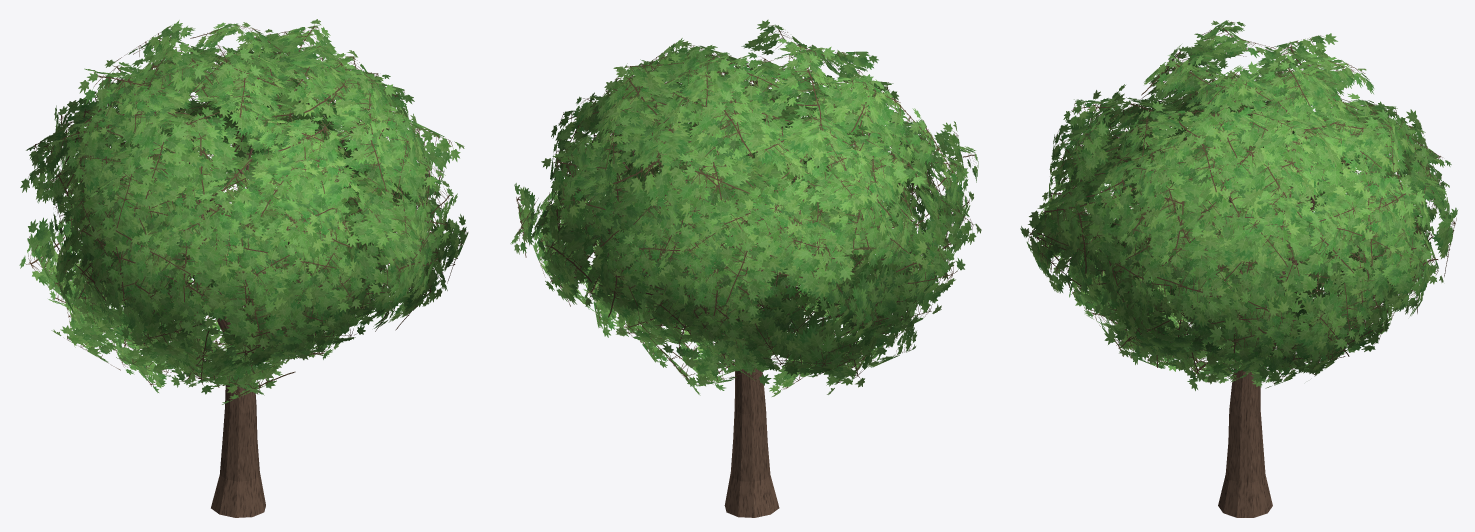
The model's file is tree-maple-large.gltf.
3 renders of one model, left to right at view 1: azimuth 30°, elevation 25°; view 2: azimuth 150°, elevation 25°; view 3: azimuth 270°, elevation 25°, orthographic. The views are drawn at different scales.
Parts seen in each view (by area): view 1: tree_maple_large; view 2: tree_maple_large; view 3: tree_maple_large.
Part boxes in pixels (left/top/right/bottom): tree_maple_large: left=19, top=19, right=468, bottom=517; tree_maple_large: left=510, top=19, right=981, bottom=517; tree_maple_large: left=1020, top=20, right=1457, bottom=517.
Bounding box in the file's own units: 7.71 × 8.57 × 7.51.
3 materials, 3 textured.
